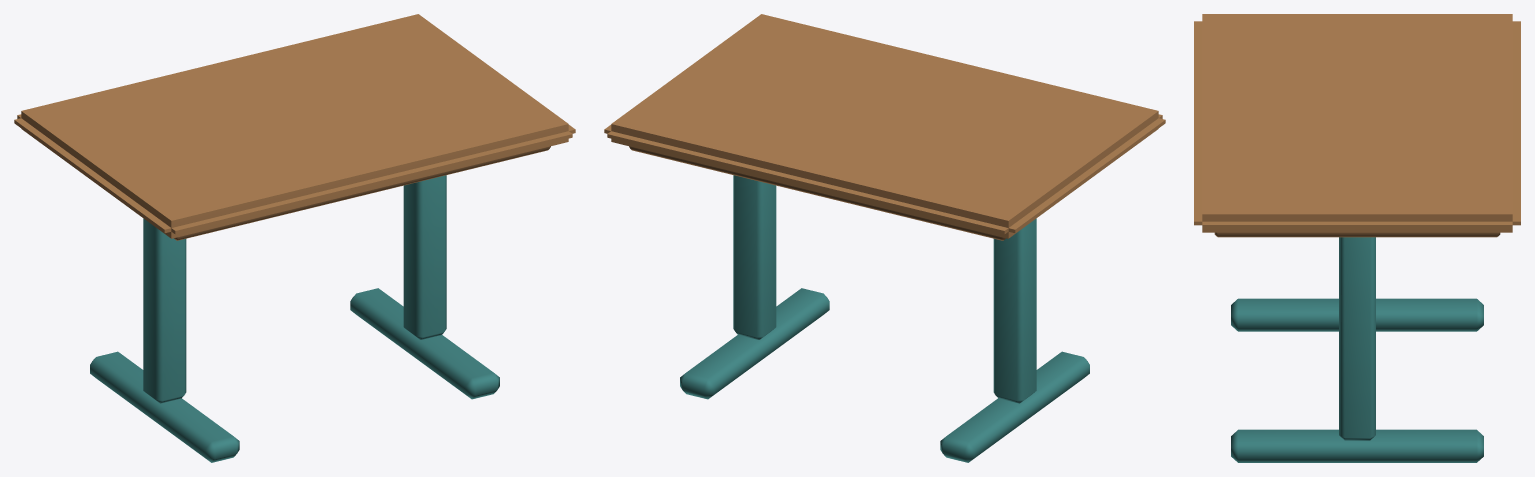
The model's file is Table_Four_01.glb.
3 views of the same model, side by side, from view 1: azimuth 30°, elevation 25°; view 2: azimuth 150°, elevation 25°; view 3: azimuth 270°, elevation 25° (orthographic). The views are drawn at different scales.
Parts seen in each view (by area): view 1: SM_Table_Four_01; view 2: SM_Table_Four_01; view 3: SM_Table_Four_01.
Boxes of the visible parts, x1,y1,x2,y2 form: SM_Table_Four_01: (14, 14, 575, 462); SM_Table_Four_01: (604, 14, 1165, 462); SM_Table_Four_01: (1194, 14, 1520, 462).
Size of the model in its own units: 1.2 by 0.75 by 0.8.
Materials: 1 (1 with a texture image).
